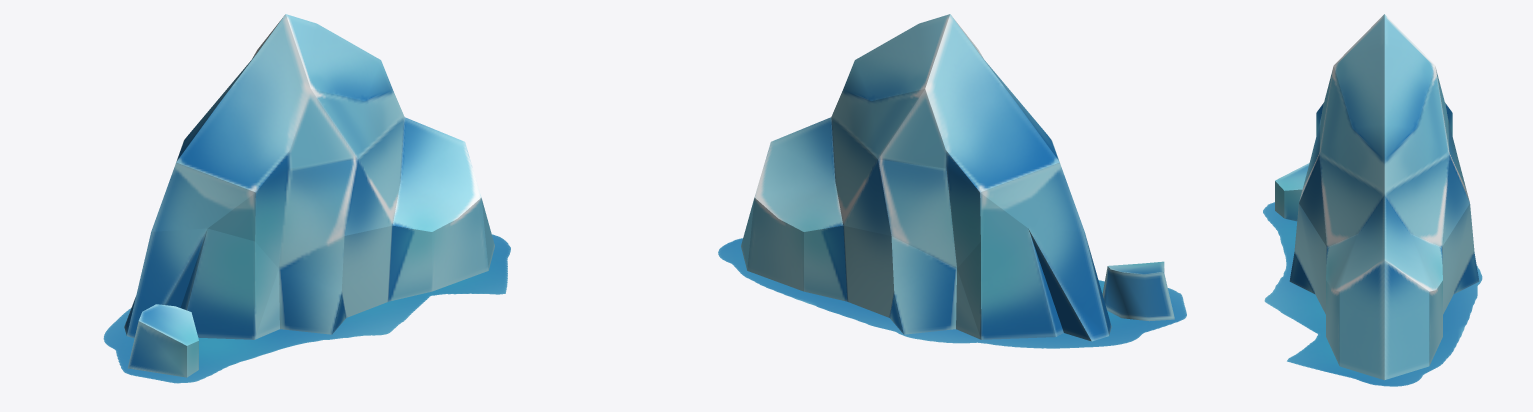
File: ice.fbx
The picture shows the model from 3 angles, left to right: view 1: azimuth 30°, elevation 25°; view 2: azimuth 150°, elevation 25°; view 3: azimuth 270°, elevation 25°; orthographic projection. The views are drawn at different scales.
Parts seen in each view (by area): view 1: ice; view 2: ice; view 3: ice.
Boxes of the visible parts, x1,y1,x2,y2 form: ice: (103, 14, 510, 383); ice: (718, 14, 1186, 348); ice: (1263, 14, 1482, 386).
Bounding box in the file's own units: 4.85 × 2.93 × 2.64.
1 material, 1 textured.
